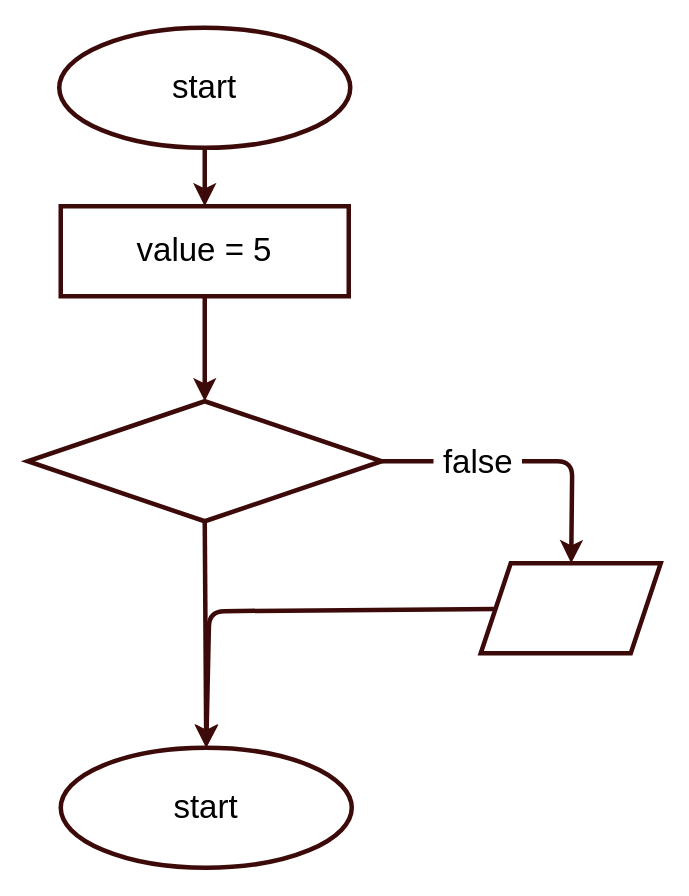
Image size: 689x896. Some labels were removed from this diagram. The centre of each missing label's shape, as x and y in pixels:
"no" belongs at (570,607).
"value > 5" belongs at (204,460).
